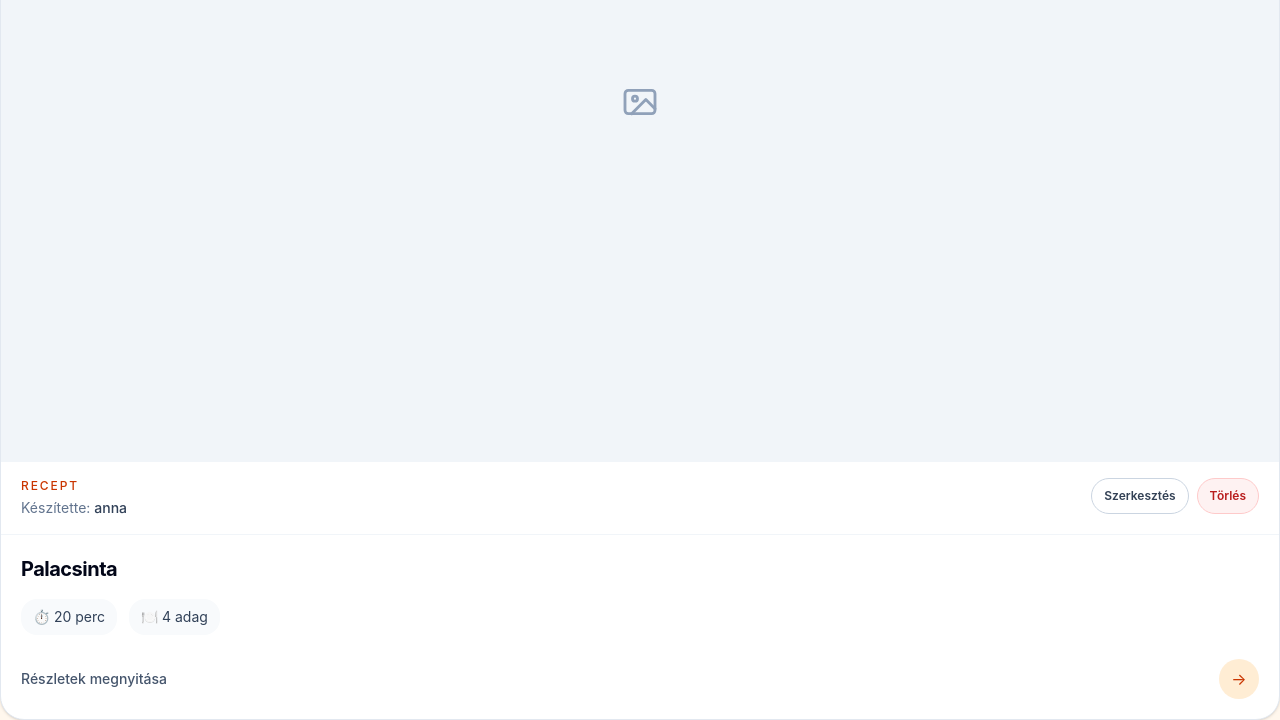
RecipeCard › opens the delete confirmation dialog when the owner clicks the delete button
The width and height of the screenshot is (1280, 720).
(page scrolled)
Click the button "Törlés": (1228, 496) [1197,478,1259,514]
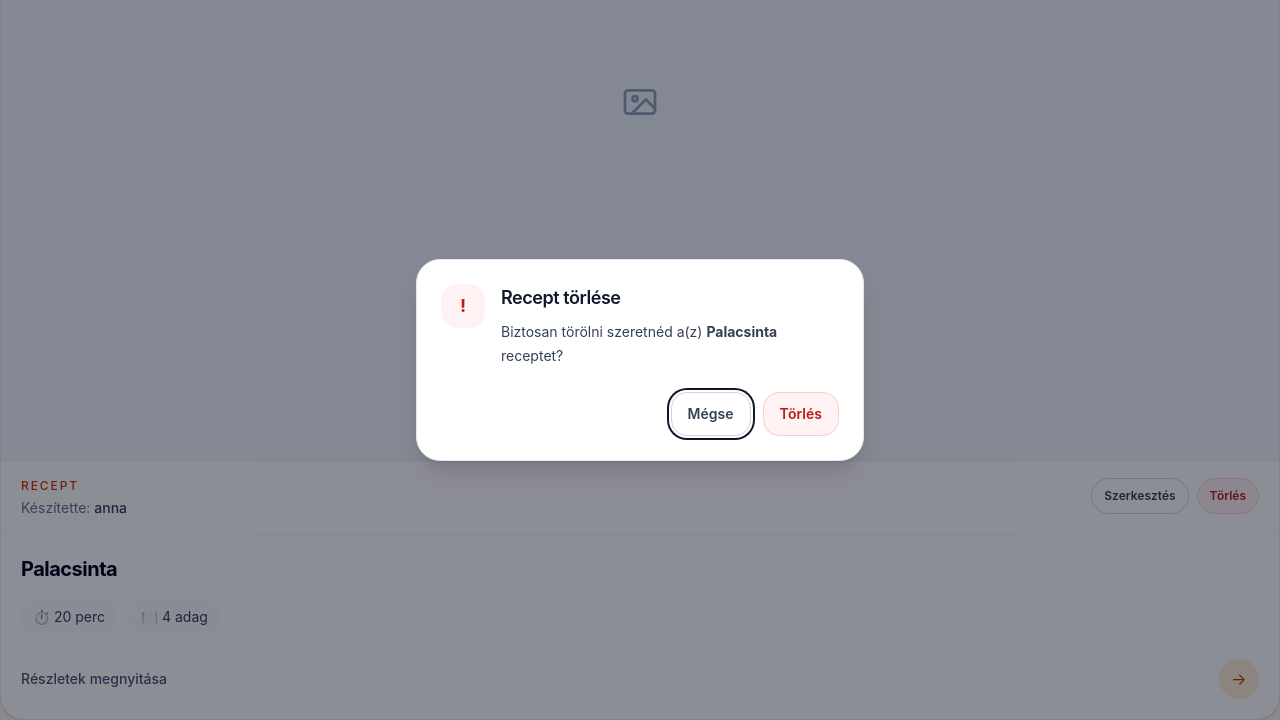
Now the dialog "Recept törlése" is shown, box [416,259,864,461]
Now the dialog "Recept törlése" shows "Biztosan törölni szeretnéd", box [501,323,706,340]
Now the dialog "Recept törlése" shows "Palacsinta", box [706,323,777,340]
